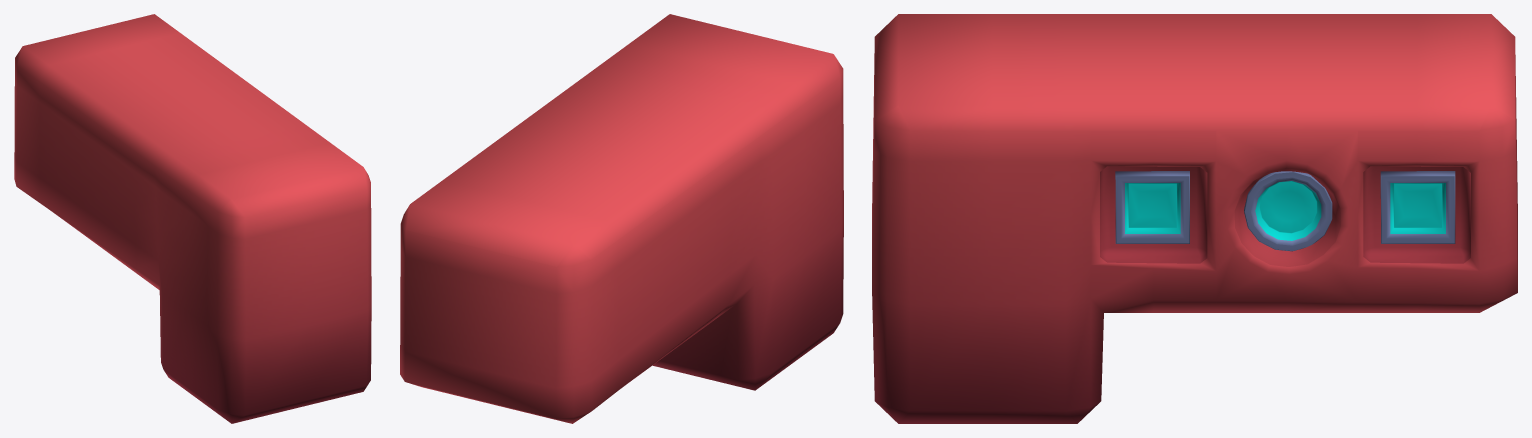
Rendered from conditionalblock.fbx.
3 renders of one model, left to right at view 1: azimuth 30°, elevation 25°; view 2: azimuth 150°, elevation 25°; view 3: azimuth 270°, elevation 25°, orthographic. The views are drawn at different scales.
Visible parts, largest first — view 1: ConditionalBlock; view 2: ConditionalBlock; view 3: ConditionalBlock, socket.001, socket.003, socket.002.
Boxes of the visible parts, x1,y1,x2,y2 form: ConditionalBlock: (14, 14, 371, 423); ConditionalBlock: (400, 14, 843, 423); ConditionalBlock: (872, 14, 1517, 423); socket.001: (1244, 171, 1332, 251); socket.003: (1380, 171, 1455, 243); socket.002: (1115, 171, 1189, 243).
Bounding box in the file's own units: 141 × 199 × 365.
